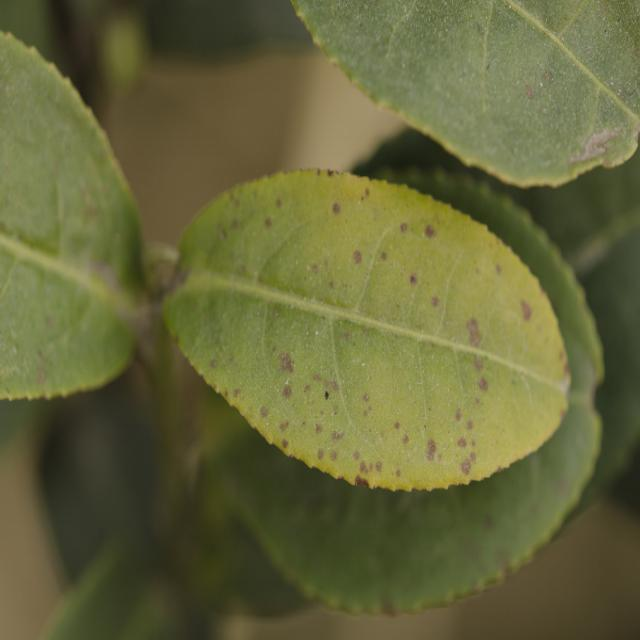Tea red scab: (208, 174, 550, 471)
